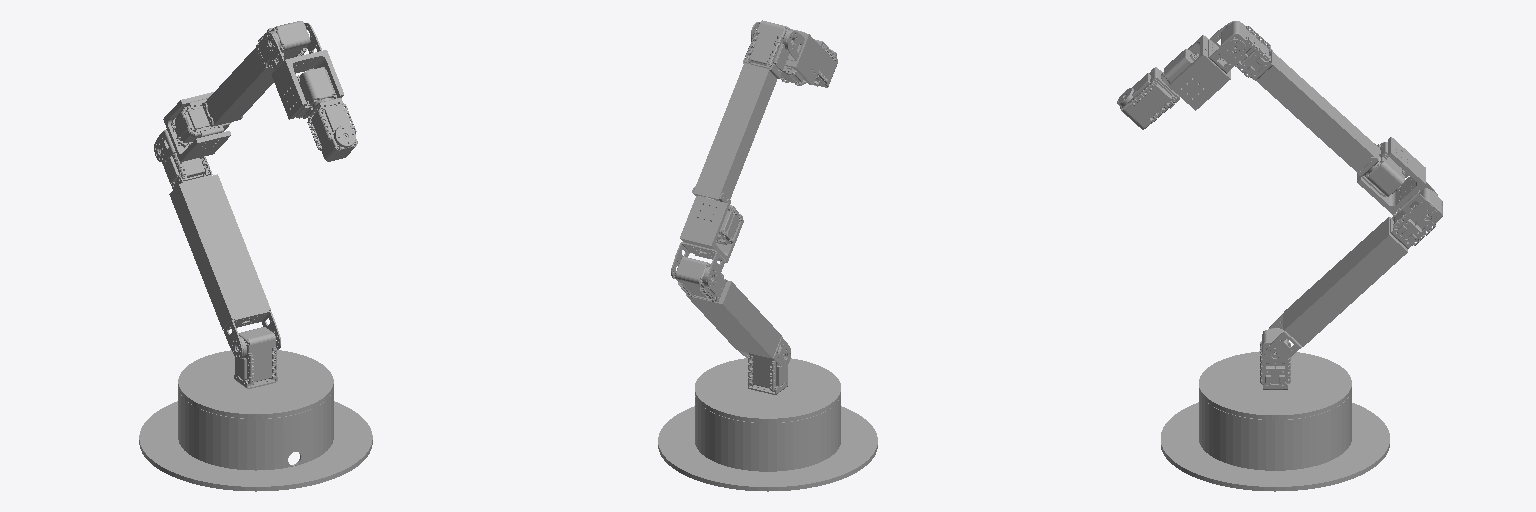
--- Render facts (derived) ---
3 views of the same robot in one strip: view 1: azimuth 30°, elevation 25°; view 2: azimuth 150°, elevation 25°; view 3: azimuth 270°, elevation 25° (orthographic).
Model mvp_arm_6dof with 28 links and 27 joints (6 continuous, 21 fixed), rooted at dummy, posed all joints at 0.
Links seen in each view (by area): view 1: base_link, shoulderArm__1, lid_1, axis4ARM__1, axis5-6_connector__1, AX12A_servo__6__1, AX12A_servo__1__1, axis3-4_connector__1, AX12A_servo__4__1, AX12A_servo__3__1, AX12A_servo__5__1, f2Bracket_1 (+2 smaller); view 2: base_link, lid_1, axis4ARM__1, shoulderArm__1, axis3-4_connector__1, AX12A_servo__4__1, AX12A_servo__2__1, AX12A_servo__1__1, axis5-6_connector__1, f2Bracket__1__1, AX12A_servo__6__1, AX12A_servo__3__1; view 3: base_link, lid_1, shoulderArm__1, axis4ARM__1, axis5-6_connector__1, AX12A_servo__6__1, axis3-4_connector__1, AX12A_servo__4__1, AX12A_servo__2__1, AX12A_servo__1__1, AX12A_servo__3__1, f2Bracket__2__1 (+3 smaller).
Boxes of the visible links, x1=… form: base_link: x1=139, y1=389, x2=372, y2=491; shoulderArm__1: x1=169, y1=174, x2=270, y2=329; lid_1: x1=178, y1=350, x2=333, y2=418; axis4ARM__1: x1=205, y1=48, x2=274, y2=125; axis5-6_connector__1: x1=271, y1=50, x2=343, y2=119; AX12A_servo__6__1: x1=307, y1=103, x2=357, y2=161; AX12A_servo__1__1: x1=235, y1=327, x2=276, y2=385; axis3-4_connector__1: x1=163, y1=92, x2=230, y2=161; AX12A_servo__4__1: x1=258, y1=21, x2=310, y2=68; AX12A_servo__3__1: x1=171, y1=106, x2=231, y2=147; AX12A_servo__5__1: x1=295, y1=67, x2=335, y2=118; f2Bracket_1: x1=223, y1=310, x2=280, y2=358; base_link: x1=658, y1=396, x2=877, y2=491; lid_1: x1=695, y1=358, x2=840, y2=422; axis4ARM__1: x1=694, y1=64, x2=776, y2=198; shoulderArm__1: x1=686, y1=280, x2=781, y2=358; axis3-4_connector__1: x1=680, y1=196, x2=743, y2=262; AX12A_servo__4__1: x1=745, y1=20, x2=793, y2=72; AX12A_servo__2__1: x1=675, y1=257, x2=723, y2=301; AX12A_servo__1__1: x1=748, y1=345, x2=787, y2=391; axis5-6_connector__1: x1=785, y1=31, x2=825, y2=84; f2Bracket__1__1: x1=671, y1=242, x2=725, y2=287; AX12A_servo__6__1: x1=813, y1=44, x2=837, y2=87; AX12A_servo__3__1: x1=702, y1=196, x2=742, y2=244; base_link: x1=1161, y1=391, x2=1389, y2=491; lid_1: x1=1199, y1=351, x2=1351, y2=419; shoulderArm__1: x1=1284, y1=217, x2=1407, y2=346; axis4ARM__1: x1=1256, y1=52, x2=1377, y2=172; axis5-6_connector__1: x1=1169, y1=35, x2=1230, y2=110; AX12A_servo__6__1: x1=1117, y1=73, x2=1176, y2=129; axis3-4_connector__1: x1=1357, y1=137, x2=1425, y2=214; AX12A_servo__4__1: x1=1221, y1=21, x2=1270, y2=77; AX12A_servo__2__1: x1=1393, y1=188, x2=1442, y2=245; AX12A_servo__1__1: x1=1260, y1=328, x2=1290, y2=385; AX12A_servo__3__1: x1=1364, y1=142, x2=1406, y2=196; f2Bracket__2__1: x1=1208, y1=21, x2=1245, y2=73.
Bounding box of the posed robot: 0.2325 × 0.3293 × 0.4719 m (x, y, z).
27 mesh visuals loaded from 27 distinct referenced files (27 binary STL).

The robot description file, URDF, robot "mvp_arm_6dof":
<?xml version="1.0" ?>
<!-- =================================================================================== -->
<!-- |    This document was autogenerated by xacro from mvp_arm_6dof.xacro             | -->
<!-- |    EDITING THIS FILE BY HAND IS NOT RECOMMENDED                                 | -->
<!-- =================================================================================== -->
<robot name="mvp_arm_6dof">
  <!--
	     ADDED DUMMY LINK AND DUMMMY JOINT
	     -->
  <material name="silver">
    <color rgba="0.700 0.700 0.700 1.000"/>
  </material>
  <transmission name="Rev17_tran">
    <type>transmission_interface/SimpleTransmission</type>
    <joint name="Rev17">
      <hardwareInterface>hardware_interface/EffortJointInterface</hardwareInterface>
    </joint>
    <actuator name="Rev17_actr">
      <hardwareInterface>hardware_interface/EffortJointInterface</hardwareInterface>
      <mechanicalReduction>1</mechanicalReduction>
    </actuator>
  </transmission>
  <transmission name="Rev20_tran">
    <type>transmission_interface/SimpleTransmission</type>
    <joint name="Rev20">
      <hardwareInterface>hardware_interface/EffortJointInterface</hardwareInterface>
    </joint>
    <actuator name="Rev20_actr">
      <hardwareInterface>hardware_interface/EffortJointInterface</hardwareInterface>
      <mechanicalReduction>1</mechanicalReduction>
    </actuator>
  </transmission>
  <transmission name="Rev26_tran">
    <type>transmission_interface/SimpleTransmission</type>
    <joint name="Rev26">
      <hardwareInterface>hardware_interface/EffortJointInterface</hardwareInterface>
    </joint>
    <actuator name="Rev26_actr">
      <hardwareInterface>hardware_interface/EffortJointInterface</hardwareInterface>
      <mechanicalReduction>1</mechanicalReduction>
    </actuator>
  </transmission>
  <transmission name="Rev36_tran">
    <type>transmission_interface/SimpleTransmission</type>
    <joint name="Rev36">
      <hardwareInterface>hardware_interface/EffortJointInterface</hardwareInterface>
    </joint>
    <actuator name="Rev36_actr">
      <hardwareInterface>hardware_interface/EffortJointInterface</hardwareInterface>
      <mechanicalReduction>1</mechanicalReduction>
    </actuator>
  </transmission>
  <transmission name="Rev40_tran">
    <type>transmission_interface/SimpleTransmission</type>
    <joint name="Rev40">
      <hardwareInterface>hardware_interface/EffortJointInterface</hardwareInterface>
    </joint>
    <actuator name="Rev40_actr">
      <hardwareInterface>hardware_interface/EffortJointInterface</hardwareInterface>
      <mechanicalReduction>1</mechanicalReduction>
    </actuator>
  </transmission>
  <transmission name="Rev45_tran">
    <type>transmission_interface/SimpleTransmission</type>
    <joint name="Rev45">
      <hardwareInterface>hardware_interface/EffortJointInterface</hardwareInterface>
    </joint>
    <actuator name="Rev45_actr">
      <hardwareInterface>hardware_interface/EffortJointInterface</hardwareInterface>
      <mechanicalReduction>1</mechanicalReduction>
    </actuator>
  </transmission>
  <gazebo>
    <plugin filename="libgazebo_ros_control.so" name="control"/>
  </gazebo>
  <gazebo reference="base_link">
    <material>Gazebo/Silver</material>
    <mu1>0.2</mu1>
    <mu2>0.2</mu2>
    <selfCollide>true</selfCollide>
    <gravity>true</gravity>
  </gazebo>
  <gazebo reference="f3Bracket_1">
    <material>Gazebo/Silver</material>
    <mu1>0.2</mu1>
    <mu2>0.2</mu2>
    <selfCollide>true</selfCollide>
  </gazebo>
  <gazebo reference="f3Bracket__1__1">
    <material>Gazebo/Silver</material>
    <mu1>0.2</mu1>
    <mu2>0.2</mu2>
    <selfCollide>true</selfCollide>
  </gazebo>
  <gazebo reference="AX12A_servo_1">
    <material>Gazebo/Silver</material>
    <mu1>0.2</mu1>
    <mu2>0.2</mu2>
    <selfCollide>true</selfCollide>
  </gazebo>
  <gazebo reference="lid_1">
    <material>Gazebo/Silver</material>
    <mu1>0.2</mu1>
    <mu2>0.2</mu2>
    <selfCollide>true</selfCollide>
  </gazebo>
  <gazebo reference="f3Bracket__2__1">
    <material>Gazebo/Silver</material>
    <mu1>0.2</mu1>
    <mu2>0.2</mu2>
    <selfCollide>true</selfCollide>
  </gazebo>
  <gazebo reference="AX12A_servo__1__1">
    <material>Gazebo/Silver</material>
    <mu1>0.2</mu1>
    <mu2>0.2</mu2>
    <selfCollide>true</selfCollide>
  </gazebo>
  <gazebo reference="f2Bracket_1">
    <material>Gazebo/Silver</material>
    <mu1>0.2</mu1>
    <mu2>0.2</mu2>
    <selfCollide>true</selfCollide>
  </gazebo>
  <gazebo reference="shoulderArm__1">
    <material>Gazebo/Silver</material>
    <mu1>0.2</mu1>
    <mu2>0.2</mu2>
    <selfCollide>true</selfCollide>
  </gazebo>
  <gazebo reference="f3Bracket__3__1">
    <material>Gazebo/Silver</material>
    <mu1>0.2</mu1>
    <mu2>0.2</mu2>
    <selfCollide>true</selfCollide>
  </gazebo>
  <gazebo reference="AX12A_servo__2__1">
    <material>Gazebo/Silver</material>
    <mu1>0.2</mu1>
    <mu2>0.2</mu2>
    <selfCollide>true</selfCollide>
  </gazebo>
  <gazebo reference="f2Bracket__1__1">
    <material>Gazebo/Silver</material>
    <mu1>0.2</mu1>
    <mu2>0.2</mu2>
    <selfCollide>true</selfCollide>
  </gazebo>
  <gazebo reference="axis3-4_connector__1">
    <material>Gazebo/Silver</material>
    <mu1>0.2</mu1>
    <mu2>0.2</mu2>
    <selfCollide>true</selfCollide>
  </gazebo>
  <gazebo reference="f3Bracket__4__1">
    <material>Gazebo/Silver</material>
    <mu1>0.2</mu1>
    <mu2>0.2</mu2>
    <selfCollide>true</selfCollide>
  </gazebo>
  <gazebo reference="f3Bracket__5__1">
    <material>Gazebo/Silver</material>
    <mu1>0.2</mu1>
    <mu2>0.2</mu2>
    <selfCollide>true</selfCollide>
  </gazebo>
  <gazebo reference="AX12A_servo__3__1">
    <material>Gazebo/Silver</material>
    <mu1>0.2</mu1>
    <mu2>0.2</mu2>
    <selfCollide>true</selfCollide>
  </gazebo>
  <gazebo reference="f3Bracket__6__1">
    <material>Gazebo/Silver</material>
    <mu1>0.2</mu1>
    <mu2>0.2</mu2>
    <selfCollide>true</selfCollide>
  </gazebo>
  <gazebo reference="axis4ARM__1">
    <material>Gazebo/Silver</material>
    <mu1>0.2</mu1>
    <mu2>0.2</mu2>
    <selfCollide>true</selfCollide>
  </gazebo>
  <gazebo reference="f3Bracket__7__1">
    <material>Gazebo/Silver</material>
    <mu1>0.2</mu1>
    <mu2>0.2</mu2>
    <selfCollide>true</selfCollide>
  </gazebo>
  <gazebo reference="AX12A_servo__4__1">
    <material>Gazebo/Silver</material>
    <mu1>0.2</mu1>
    <mu2>0.2</mu2>
    <selfCollide>true</selfCollide>
  </gazebo>
  <gazebo reference="f2Bracket__2__1">
    <material>Gazebo/Silver</material>
    <mu1>0.2</mu1>
    <mu2>0.2</mu2>
    <selfCollide>true</selfCollide>
  </gazebo>
  <gazebo reference="axis5-6_connector__1">
    <material>Gazebo/Silver</material>
    <mu1>0.2</mu1>
    <mu2>0.2</mu2>
    <selfCollide>true</selfCollide>
  </gazebo>
  <gazebo reference="f3Bracket__9__1">
    <material>Gazebo/Silver</material>
    <mu1>0.2</mu1>
    <mu2>0.2</mu2>
    <selfCollide>true</selfCollide>
  </gazebo>
  <gazebo reference="f3Bracket__8__1">
    <material>Gazebo/Silver</material>
    <mu1>0.2</mu1>
    <mu2>0.2</mu2>
    <selfCollide>true</selfCollide>
  </gazebo>
  <gazebo reference="AX12A_servo__5__1">
    <material>Gazebo/Silver</material>
    <mu1>0.2</mu1>
    <mu2>0.2</mu2>
    <selfCollide>true</selfCollide>
  </gazebo>
  <gazebo reference="f3Bracket__10__1">
    <material>Gazebo/Silver</material>
    <mu1>0.2</mu1>
    <mu2>0.2</mu2>
    <selfCollide>true</selfCollide>
  </gazebo>
  <gazebo reference="AX12A_servo__6__1">
    <material>Gazebo/Silver</material>
    <mu1>0.2</mu1>
    <mu2>0.2</mu2>
    <selfCollide>true</selfCollide>
  </gazebo>
  <!-- dummy link below -->
  <link name="dummy">
</link>
  <!-- dummy link above -->
  <link name="base_link">
    <inertial>
      <origin rpy="0 0 0" xyz="1.5273427923512274e-08 -0.0012615194115251204 0.015200351763726439"/>
      <mass value="1.6606259711147333"/>
      <inertia ixx="0.006748" ixy="0.0" ixz="-0.0" iyy="0.007016" iyz="4.2e-05" izz="0.012699"/>
    </inertial>
    <visual>
      <origin rpy="0 0 0" xyz="0 0 0"/>
      <geometry>
        <mesh filename="package://mvp_arm_6dof_description/meshes/base_link.stl" scale="0.001 0.001 0.001"/>
      </geometry>
      <material name="silver"/>
    </visual>
    <collision>
      <origin rpy="0 0 0" xyz="0 0 0"/>
      <geometry>
        <mesh filename="package://mvp_arm_6dof_description/meshes/base_link.stl" scale="0.001 0.001 0.001"/>
      </geometry>
    </collision>
  </link>
  <link name="f3Bracket_1">
    <inertial>
      <origin rpy="0 0 0" xyz="0.0018413874270871398 8.06819888676813e-15 2.0816681711721685e-17"/>
      <mass value="0.0016262220015435807"/>
      <inertia ixx="0.0" ixy="-0.0" ixz="-0.0" iyy="0.0" iyz="0.0" izz="0.0"/>
    </inertial>
    <visual>
      <origin rpy="0 0 0" xyz="0.019 0.01475 -0.041"/>
      <geometry>
        <mesh filename="package://mvp_arm_6dof_description/meshes/f3Bracket_1.stl" scale="0.001 0.001 0.001"/>
      </geometry>
      <material name="silver"/>
    </visual>
    <collision>
      <origin rpy="0 0 0" xyz="0.019 0.01475 -0.041"/>
      <geometry>
        <mesh filename="package://mvp_arm_6dof_description/meshes/f3Bracket_1.stl" scale="0.001 0.001 0.001"/>
      </geometry>
    </collision>
  </link>
  <link name="f3Bracket__1__1">
    <inertial>
      <origin rpy="0 0 0" xyz="-0.0018413874270886074 6.831341048396666e-15 -3.469446951953614e-17"/>
      <mass value="0.0016262220015435807"/>
      <inertia ixx="0.0" ixy="0.0" ixz="0.0" iyy="0.0" iyz="-0.0" izz="0.0"/>
    </inertial>
    <visual>
      <origin rpy="0 0 0" xyz="-0.019 0.01475 -0.041"/>
      <geometry>
        <mesh filename="package://mvp_arm_6dof_description/meshes/f3Bracket__1__1.stl" scale="0.001 0.001 0.001"/>
      </geometry>
      <material name="silver"/>
    </visual>
    <collision>
      <origin rpy="0 0 0" xyz="-0.019 0.01475 -0.041"/>
      <geometry>
        <mesh filename="package://mvp_arm_6dof_description/meshes/f3Bracket__1__1.stl" scale="0.001 0.001 0.001"/>
      </geometry>
    </collision>
  </link>
  <link name="AX12A_servo_1">
    <inertial>
      <origin rpy="0 0 0" xyz="0.01350070935914761 -0.005876867522658821 -0.01479497142329602"/>
      <mass value="0.3366787209762054"/>
      <inertia ixx="9.7e-05" ixy="-0.0" ixz="-0.0" iyy="5.4e-05" iyz="-1e-06" izz="8.2e-05"/>
    </inertial>
    <visual>
      <origin rpy="0 0 0" xyz="0.0135 0.00675 -0.057"/>
      <geometry>
        <mesh filename="package://mvp_arm_6dof_description/meshes/AX12A_servo_1.stl" scale="0.001 0.001 0.001"/>
      </geometry>
      <material name="silver"/>
    </visual>
    <collision>
      <origin rpy="0 0 0" xyz="0.0135 0.00675 -0.057"/>
      <geometry>
        <mesh filename="package://mvp_arm_6dof_description/meshes/AX12A_servo_1.stl" scale="0.001 0.001 0.001"/>
      </geometry>
    </collision>
  </link>
  <link name="lid_1">
    <inertial>
      <origin rpy="0 0 0" xyz="-1.0658141036401502e-15 2.4713564528155986e-15 0.0024995000000005013"/>
      <mass value="0.7384184020105663"/>
      <inertia ixx="0.001114" ixy="0.0" ixz="0.0" iyy="0.001114" iyz="-0.0" izz="0.002224"/>
    </inertial>
    <visual>
      <origin rpy="0 0 0" xyz="0.0 -0.0 -0.06175"/>
      <geometry>
        <mesh filename="package://mvp_arm_6dof_description/meshes/lid_1.stl" scale="0.001 0.001 0.001"/>
      </geometry>
      <material name="silver"/>
    </visual>
    <collision>
      <origin rpy="0 0 0" xyz="0.0 -0.0 -0.06175"/>
      <geometry>
        <mesh filename="package://mvp_arm_6dof_description/meshes/lid_1.stl" scale="0.001 0.001 0.001"/>
      </geometry>
    </collision>
  </link>
  <link name="f3Bracket__2__1">
    <inertial>
      <origin rpy="0 0 0" xyz="-4.2188474935755947e-16 8.477663016037695e-15 0.0018408874270881004"/>
      <mass value="0.0016262220015435807"/>
      <inertia ixx="0.0" ixy="0.0" ixz="0.0" iyy="0.0" iyz="-0.0" izz="0.0"/>
    </inertial>
    <visual>
      <origin rpy="0 0 0" xyz="0.0 -0.0 -0.06675"/>
      <geometry>
        <mesh filename="package://mvp_arm_6dof_description/meshes/f3Bracket__2__1.stl" scale="0.001 0.001 0.001"/>
      </geometry>
      <material name="silver"/>
    </visual>
    <collision>
      <origin rpy="0 0 0" xyz="0.0 -0.0 -0.06675"/>
      <geometry>
        <mesh filename="package://mvp_arm_6dof_description/meshes/f3Bracket__2__1.stl" scale="0.001 0.001 0.001"/>
      </geometry>
    </collision>
  </link>
  <link name="AX12A_servo__1__1">
    <inertial>
      <origin rpy="0 0 0" xyz="0.014794971423295564 0.007999290640854232 0.02337263247733931"/>
      <mass value="0.3366787209762054"/>
      <inertia ixx="8.2e-05" ixy="-0.0" ixz="1e-06" iyy="9.7e-05" iyz="0.0" izz="5.4e-05"/>
    </inertial>
    <visual>
      <origin rpy="0 0 0" xyz="0.016 0.008 -0.07225"/>
      <geometry>
        <mesh filename="package://mvp_arm_6dof_description/meshes/AX12A_servo__1__1.stl" scale="0.001 0.001 0.001"/>
      </geometry>
      <material name="silver"/>
    </visual>
    <collision>
      <origin rpy="0 0 0" xyz="0.016 0.008 -0.07225"/>
      <geometry>
        <mesh filename="package://mvp_arm_6dof_description/meshes/AX12A_servo__1__1.stl" scale="0.001 0.001 0.001"/>
      </geometry>
    </collision>
  </link>
  <link name="f2Bracket_1">
    <inertial>
      <origin rpy="0 0 0" xyz="0.02099999999999843 0.011463049476928342 0.011458018229762487"/>
      <mass value="0.0037556666472927302"/>
      <inertia ixx="1e-06" ixy="0.0" ixz="-0.0" iyy="2e-06" iyz="-0.0" izz="2e-06"/>
    </inertial>
    <visual>
      <origin rpy="0 0 0" xyz="0.02075 -0.0 -0.10825"/>
      <geometry>
        <mesh filename="package://mvp_arm_6dof_description/meshes/f2Bracket_1.stl" scale="0.001 0.001 0.001"/>
      </geometry>
      <material name="silver"/>
    </visual>
    <collision>
      <origin rpy="0 0 0" xyz="0.02075 -0.0 -0.10825"/>
      <geometry>
        <mesh filename="package://mvp_arm_6dof_description/meshes/f2Bracket_1.stl" scale="0.001 0.001 0.001"/>
      </geometry>
    </collision>
  </link>
  <link name="shoulderArm__1">
    <inertial>
      <origin rpy="0 0 0" xyz="1.7088652541630278e-15 0.05303289486060747 0.05303290188896653"/>
      <mass value="1.4306625"/>
      <inertia ixx="0.002769" ixy="-0.0" ixz="-0.0" iyy="0.001626" iyz="-0.001298" izz="0.001626"/>
    </inertial>
    <visual>
      <origin rpy="0 0 0" xyz="-0.00025 -0.018709 -0.126952"/>
      <geometry>
        <mesh filename="package://mvp_arm_6dof_description/meshes/shoulderArm__1.stl" scale="0.001 0.001 0.001"/>
      </geometry>
      <material name="silver"/>
    </visual>
    <collision>
      <origin rpy="0 0 0" xyz="-0.00025 -0.018709 -0.126952"/>
      <geometry>
        <mesh filename="package://mvp_arm_6dof_description/meshes/shoulderArm__1.stl" scale="0.001 0.001 0.001"/>
      </geometry>
    </collision>
  </link>
  <link name="f3Bracket__3__1">
    <inertial>
      <origin rpy="0 0 0" xyz="5.250465860695552e-15 0.0013019609860796533 0.0013019680144470969"/>
      <mass value="0.0016262220015435807"/>
      <inertia ixx="0.0" ixy="-0.0" ixz="0.0" iyy="0.0" iyz="0.0" izz="0.0"/>
    </inertial>
    <visual>
      <origin rpy="0 0 0" xyz="-0.00025 -0.124775 -0.233018"/>
      <geometry>
        <mesh filename="package://mvp_arm_6dof_description/meshes/f3Bracket__3__1.stl" scale="0.001 0.001 0.001"/>
      </geometry>
      <material name="silver"/>
    </visual>
    <collision>
      <origin rpy="0 0 0" xyz="-0.00025 -0.124775 -0.233018"/>
      <geometry>
        <mesh filename="package://mvp_arm_6dof_description/meshes/f3Bracket__3__1.stl" scale="0.001 0.001 0.001"/>
      </geometry>
    </collision>
  </link>
  <link name="AX12A_servo__2__1">
    <inertial>
      <origin rpy="0 0 0" xyz="0.01479397142330254 0.010869789625758658 0.02218479983944499"/>
      <mass value="0.3366787209762054"/>
      <inertia ixx="8.2e-05" ixy="1e-06" ixz="1e-06" iyy="7.6e-05" iyz="-2.2e-05" izz="7.6e-05"/>
    </inertial>
    <visual>
      <origin rpy="0 0 0" xyz="0.015749 -0.134321 -0.23125"/>
      <geometry>
        <mesh filename="package://mvp_arm_6dof_description/meshes/AX12A_servo__2__1.stl" scale="0.001 0.001 0.001"/>
      </geometry>
      <material name="silver"/>
    </visual>
    <collision>
      <origin rpy="0 0 0" xyz="0.015749 -0.134321 -0.23125"/>
      <geometry>
        <mesh filename="package://mvp_arm_6dof_description/meshes/AX12A_servo__2__1.stl" scale="0.001 0.001 0.001"/>
      </geometry>
    </collision>
  </link>
  <link name="f2Bracket__1__1">
    <inertial>
      <origin rpy="0 0 0" xyz="0.02099900000000768 -0.011458683360921401 0.011462891374124484"/>
      <mass value="0.0037556666472927302"/>
      <inertia ixx="1e-06" ixy="0.0" ixz="0.0" iyy="2e-06" iyz="0.0" izz="2e-06"/>
    </inertial>
    <visual>
      <origin rpy="0 0 0" xyz="0.020499 -0.15412 -0.262363"/>
      <geometry>
        <mesh filename="package://mvp_arm_6dof_description/meshes/f2Bracket__1__1.stl" scale="0.001 0.001 0.001"/>
      </geometry>
      <material name="silver"/>
    </visual>
    <collision>
      <origin rpy="0 0 0" xyz="0.020499 -0.15412 -0.262363"/>
      <geometry>
        <mesh filename="package://mvp_arm_6dof_description/meshes/f2Bracket__1__1.stl" scale="0.001 0.001 0.001"/>
      </geometry>
    </collision>
  </link>
  <link name="axis3-4_connector__1">
    <inertial>
      <origin rpy="0 0 0" xyz="7.741767021180422e-09 -0.013131073230303991 0.013131242967982293"/>
      <mass value="0.2107220147290529"/>
      <inertia ixx="0.000131" ixy="-0.0" ixz="0.0" iyy="9.2e-05" iyz="-1.3e-05" izz="9.2e-05"/>
    </inertial>
    <visual>
      <origin rpy="0 0 0" xyz="-0.0005 -0.135417 -0.281072"/>
      <geometry>
        <mesh filename="package://mvp_arm_6dof_description/meshes/axis3-4_connector__1.stl" scale="0.001 0.001 0.001"/>
      </geometry>
      <material name="silver"/>
    </visual>
    <collision>
      <origin rpy="0 0 0" xyz="-0.0005 -0.135417 -0.281072"/>
      <geometry>
        <mesh filename="package://mvp_arm_6dof_description/meshes/axis3-4_connector__1.stl" scale="0.001 0.001 0.001"/>
      </geometry>
    </collision>
  </link>
  <link name="f3Bracket__4__1">
    <inertial>
      <origin rpy="0 0 0" xyz="8.331551594464859e-15 0.006959286311871121 -0.00435505918631085"/>
      <mass value="0.0016262220015435807"/>
      <inertia ixx="0.0" ixy="0.0" ixz="-0.0" iyy="0.0" iyz="0.0" izz="0.0"/>
    </inertial>
    <visual>
      <origin rpy="0 0 0" xyz="-0.0005 -0.09193 -0.297689"/>
      <geometry>
        <mesh filename="package://mvp_arm_6dof_description/meshes/f3Bracket__4__1.stl" scale="0.001 0.001 0.001"/>
      </geometry>
      <material name="silver"/>
    </visual>
    <collision>
      <origin rpy="0 0 0" xyz="-0.0005 -0.09193 -0.297689"/>
      <geometry>
        <mesh filename="package://mvp_arm_6dof_description/meshes/f3Bracket__4__1.stl" scale="0.001 0.001 0.001"/>
      </geometry>
    </collision>
  </link>
  <link name="f3Bracket__5__1">
    <inertial>
      <origin rpy="0 0 0" xyz="1.960920575222458e-14 0.004355228923988971 -0.006959116574192292"/>
      <mass value="0.0016262220015435807"/>
      <inertia ixx="0.0" ixy="0.0" ixz="-0.0" iyy="0.0" iyz="0.0" izz="0.0"/>
    </inertial>
    <visual>
      <origin rpy="0 0 0" xyz="-0.0005 -0.1188 -0.324559"/>
      <geometry>
        <mesh filename="package://mvp_arm_6dof_description/meshes/f3Bracket__5__1.stl" scale="0.001 0.001 0.001"/>
      </geometry>
      <material name="silver"/>
    </visual>
    <collision>
      <origin rpy="0 0 0" xyz="-0.0005 -0.1188 -0.324559"/>
      <geometry>
        <mesh filename="package://mvp_arm_6dof_description/meshes/f3Bracket__5__1.stl" scale="0.001 0.001 0.001"/>
      </geometry>
    </collision>
  </link>
  <link name="AX12A_servo__3__1">
    <inertial>
      <origin rpy="0 0 0" xyz="-0.005876867522646675 0.0009146721471553626 -0.020007505594804464"/>
      <mass value="0.3366787209762054"/>
      <inertia ixx="5.4e-05" ixy="1e-06" ixz="-1e-06" iyy="9e-05" iyz="8e-06" izz="9e-05"/>
    </inertial>
    <visual>
      <origin rpy="0 0 0" xyz="-0.0085 -0.109255 -0.326326"/>
      <geometry>
        <mesh filename="package://mvp_arm_6dof_description/meshes/AX12A_servo__3__1.stl" scale="0.001 0.001 0.001"/>
      </geometry>
      <material name="silver"/>
    </visual>
    <collision>
      <origin rpy="0 0 0" xyz="-0.0085 -0.109255 -0.326326"/>
      <geometry>
        <mesh filename="package://mvp_arm_6dof_description/meshes/AX12A_servo__3__1.stl" scale="0.001 0.001 0.001"/>
      </geometry>
    </collision>
  </link>
  <link name="f3Bracket__6__1">
    <inertial>
      <origin rpy="0 0 0" xyz="1.7957857423311907e-14 -0.001301912074779893 0.0013020818124673261"/>
      <mass value="0.0016262220015435807"/>
      <inertia ixx="0.0" ixy="-0.0" ixz="0.0" iyy="0.0" iyz="-0.0" izz="0.0"/>
    </inertial>
    <visual>
      <origin rpy="0 0 0" xyz="-0.01525 -0.09635 -0.320139"/>
      <geometry>
        <mesh filename="package://mvp_arm_6dof_description/meshes/f3Bracket__6__1.stl" scale="0.001 0.001 0.001"/>
      </geometry>
      <material name="silver"/>
    </visual>
    <collision>
      <origin rpy="0 0 0" xyz="-0.01525 -0.09635 -0.320139"/>
      <geometry>
        <mesh filename="package://mvp_arm_6dof_description/meshes/f3Bracket__6__1.stl" scale="0.001 0.001 0.001"/>
      </geometry>
    </collision>
  </link>
  <link name="axis4ARM__1">
    <inertial>
      <origin rpy="0 0 0" xyz="2.929601006229632e-14 -0.053032748695814015 0.05303291843349328"/>
      <mass value="0.9125625000000004"/>
      <inertia ixx="0.001759" ixy="0.0" ixz="-0.0" iyy="0.000952" iyz="0.000832" izz="0.000952"/>
    </inertial>
    <visual>
      <origin rpy="0 0 0" xyz="-0.01525 -0.095227 -0.321262"/>
      <geometry>
        <mesh filename="package://mvp_arm_6dof_description/meshes/axis4ARM__1.stl" scale="0.001 0.001 0.001"/>
      </geometry>
      <material name="silver"/>
    </visual>
    <collision>
      <origin rpy="0 0 0" xyz="-0.01525 -0.095227 -0.321262"/>
      <geometry>
        <mesh filename="package://mvp_arm_6dof_description/meshes/axis4ARM__1.stl" scale="0.001 0.001 0.001"/>
      </geometry>
    </collision>
  </link>
  <link name="f3Bracket__7__1">
    <inertial>
      <origin rpy="0 0 0" xyz="4.110253803979447e-14 -0.0013018148212854495 0.001301984558973679"/>
      <mass value="0.0016262220015435807"/>
      <inertia ixx="0.0" ixy="-0.0" ixz="0.0" iyy="0.0" iyz="-0.0" izz="0.0"/>
    </inertial>
    <visual>
      <origin rpy="0 0 0" xyz="-0.01525 0.010839 -0.427328"/>
      <geometry>
        <mesh filename="package://mvp_arm_6dof_description/meshes/f3Bracket__7__1.stl" scale="0.001 0.001 0.001"/>
      </geometry>
      <material name="silver"/>
    </visual>
    <collision>
      <origin rpy="0 0 0" xyz="-0.01525 0.010839 -0.427328"/>
      <geometry>
        <mesh filename="package://mvp_arm_6dof_description/meshes/f3Bracket__7__1.stl" scale="0.001 0.001 0.001"/>
      </geometry>
    </collision>
  </link>
  <link name="AX12A_servo__4__1">
    <inertial>
      <origin rpy="0 0 0" xyz="0.014793971423341353 -0.010870646646293183 0.022183813198644264"/>
      <mass value="0.3366787209762054"/>
      <inertia ixx="8.2e-05" ixy="-1e-06" ixz="1e-06" iyy="7.6e-05" iyz="2.2e-05" izz="7.6e-05"/>
    </inertial>
    <visual>
      <origin rpy="0 0 0" xyz="0.000749 0.020385 -0.42556"/>
      <geometry>
        <mesh filename="package://mvp_arm_6dof_description/meshes/AX12A_servo__4__1.stl" scale="0.001 0.001 0.001"/>
      </geometry>
      <material name="silver"/>
    </visual>
    <collision>
      <origin rpy="0 0 0" xyz="0.000749 0.020385 -0.42556"/>
      <geometry>
        <mesh filename="package://mvp_arm_6dof_description/meshes/AX12A_servo__4__1.stl" scale="0.001 0.001 0.001"/>
      </geometry>
    </collision>
  </link>
  <link name="f2Bracket__2__1">
    <inertial>
      <origin rpy="0 0 0" xyz="0.020999000000046463 -0.011462738180973452 -0.011458659788035952"/>
      <mass value="0.0037556666472927302"/>
      <inertia ixx="1e-06" ixy="-0.0" ixz="0.0" iyy="2e-06" iyz="-0.0" izz="2e-06"/>
    </inertial>
    <visual>
      <origin rpy="0 0 0" xyz="0.005499 0.040184 -0.456673"/>
      <geometry>
        <mesh filename="package://mvp_arm_6dof_description/meshes/f2Bracket__2__1.stl" scale="0.001 0.001 0.001"/>
      </geometry>
      <material name="silver"/>
    </visual>
    <collision>
      <origin rpy="0 0 0" xyz="0.005499 0.040184 -0.456673"/>
      <geometry>
        <mesh filename="package://mvp_arm_6dof_description/meshes/f2Bracket__2__1.stl" scale="0.001 0.001 0.001"/>
      </geometry>
    </collision>
  </link>
  <link name="axis5-6_connector__1">
    <inertial>
      <origin rpy="0 0 0" xyz="-2.2518098496959738e-13 -0.013131095249087704 -0.01313104418317057"/>
      <mass value="0.2107220147290529"/>
      <inertia ixx="8e-05" ixy="-0.0" ixz="0.0" iyy="0.000118" iyz="-1.3e-05" izz="0.000118"/>
    </inertial>
    <visual>
      <origin rpy="0 0 0" xyz="-0.0155 0.058893 -0.43797"/>
      <geometry>
        <mesh filename="package://mvp_arm_6dof_description/meshes/axis5-6_connector__1.stl" scale="0.001 0.001 0.001"/>
      </geometry>
      <material name="silver"/>
    </visual>
    <collision>
      <origin rpy="0 0 0" xyz="-0.0155 0.058893 -0.43797"/>
      <geometry>
        <mesh filename="package://mvp_arm_6dof_description/meshes/axis5-6_connector__1.stl" scale="0.001 0.001 0.001"/>
      </geometry>
    </collision>
  </link>
  <link name="f3Bracket__9__1">
    <inertial>
      <origin rpy="0 0 0" xyz="0.001841387427043583 0.005657241073397323 0.005657281190819818"/>
      <mass value="0.0016262220015435807"/>
      <inertia ixx="0.0" ixy="-0.0" ixz="-0.0" iyy="0.0" iyz="-0.0" izz="0.0"/>
    </inertial>
    <visual>
      <origin rpy="0 0 0" xyz="0.0035 0.088945 -0.407918"/>
      <geometry>
        <mesh filename="package://mvp_arm_6dof_description/meshes/f3Bracket__9__1.stl" scale="0.001 0.001 0.001"/>
      </geometry>
      <material name="silver"/>
    </visual>
    <collision>
      <origin rpy="0 0 0" xyz="0.0035 0.088945 -0.407918"/>
      <geometry>
        <mesh filename="package://mvp_arm_6dof_description/meshes/f3Bracket__9__1.stl" scale="0.001 0.001 0.001"/>
      </geometry>
    </collision>
  </link>
  <link name="f3Bracket__8__1">
    <inertial>
      <origin rpy="0 0 0" xyz="-0.0018413874273180211 0.0056572410733904815 0.005657281190812213"/>
      <mass value="0.0016262220015435807"/>
      <inertia ixx="0.0" ixy="-0.0" ixz="-0.0" iyy="0.0" iyz="-0.0" izz="0.0"/>
    </inertial>
    <visual>
      <origin rpy="0 0 0" xyz="-0.0345 0.088945 -0.407918"/>
      <geometry>
        <mesh filename="package://mvp_arm_6dof_description/meshes/f3Bracket__8__1.stl" scale="0.001 0.001 0.001"/>
      </geometry>
      <material name="silver"/>
    </visual>
    <collision>
      <origin rpy="0 0 0" xyz="-0.0345 0.088945 -0.407918"/>
      <geometry>
        <mesh filename="package://mvp_arm_6dof_description/meshes/f3Bracket__8__1.stl" scale="0.001 0.001 0.001"/>
      </geometry>
    </collision>
  </link>
  <link name="AX12A_servo__5__1">
    <inertial>
      <origin rpy="0 0 0" xyz="-0.013499290641083328 0.014616875823199357 0.006305478684788701"/>
      <mass value="0.3366787209762054"/>
      <inertia ixx="9.7e-05" ixy="0.0" ixz="0.0" iyy="6.6e-05" iyz="1.4e-05" izz="6.9e-05"/>
    </inertial>
    <visual>
      <origin rpy="0 0 0" xyz="-0.029 0.100258 -0.407919"/>
      <geometry>
        <mesh filename="package://mvp_arm_6dof_description/meshes/AX12A_servo__5__1.stl" scale="0.001 0.001 0.001"/>
      </geometry>
      <material name="silver"/>
    </visual>
    <collision>
      <origin rpy="0 0 0" xyz="-0.029 0.100258 -0.407919"/>
      <geometry>
        <mesh filename="package://mvp_arm_6dof_description/meshes/AX12A_servo__5__1.stl" scale="0.001 0.001 0.001"/>
      </geometry>
    </collision>
  </link>
  <link name="f3Bracket__10__1">
    <inertial>
      <origin rpy="0 0 0" xyz="-2.483881156312151e-13 -0.001301753641823486 -0.0013020634793980412"/>
      <mass value="0.0016262220015435807"/>
      <inertia ixx="0.0" ixy="-0.0" ixz="0.0" iyy="0.0" iyz="0.0" izz="0.0"/>
    </inertial>
    <visual>
      <origin rpy="0 0 0" xyz="-0.0155 0.10839 -0.409333"/>
      <geometry>
        <mesh filename="package://mvp_arm_6dof_description/meshes/f3Bracket__10__1.stl" scale="0.001 0.001 0.001"/>
      </geometry>
      <material name="silver"/>
    </visual>
    <collision>
      <origin rpy="0 0 0" xyz="-0.0155 0.10839 -0.409333"/>
      <geometry>
        <mesh filename="package://mvp_arm_6dof_description/meshes/f3Bracket__10__1.stl" scale="0.001 0.001 0.001"/>
      </geometry>
    </collision>
  </link>
  <link name="AX12A_servo__6__1">
    <inertial>
      <origin rpy="0 0 0" xyz="0.007999290640599755 -0.02865305003000715 -0.004402427555891486"/>
      <mass value="0.3366787209762054"/>
      <inertia ixx="9.7e-05" ixy="-0.0" ixz="0.0" iyy="6.6e-05" iyz="-1.4e-05" izz="6.9e-05"/>
    </inertial>
    <visual>
      <origin rpy="0 0 0" xyz="-0.0075 0.100965 -0.394131"/>
      <geometry>
        <mesh filename="package://mvp_arm_6dof_description/meshes/AX12A_servo__6__1.stl" scale="0.001 0.001 0.001"/>
      </geometry>
      <material name="silver"/>
    </visual>
    <collision>
      <origin rpy="0 0 0" xyz="-0.0075 0.100965 -0.394131"/>
      <geometry>
        <mesh filename="package://mvp_arm_6dof_description/meshes/AX12A_servo__6__1.stl" scale="0.001 0.001 0.001"/>
      </geometry>
    </collision>
  </link>
  <!-- dummy joint below -->
  <joint name="dummy_joint" type="fixed">
    <parent link="dummy"/>
    <child link="base_link"/>
  </joint>
  <!-- dummy joint above -->
  <joint name="Rigid14" type="fixed">
    <origin rpy="0 0 0" xyz="-0.019 -0.01475 0.041"/>
    <parent link="base_link"/>
    <child link="f3Bracket_1"/>
  </joint>
  <joint name="Rigid15" type="fixed">
    <origin rpy="0 0 0" xyz="0.019 -0.01475 0.041"/>
    <parent link="base_link"/>
    <child link="f3Bracket__1__1"/>
  </joint>
  <joint name="Rigid16" type="fixed">
    <origin rpy="0 0 0" xyz="0.0055 0.008 0.016"/>
    <parent link="f3Bracket_1"/>
    <child link="AX12A_servo_1"/>
  </joint>
  <joint name="Rev17" type="continuous">
    <origin rpy="0 0 0" xyz="0.0135 0.00675 0.00475"/>
    <parent link="AX12A_servo_1"/>
    <child link="lid_1"/>
    <axis xyz="0.0 0.0 -1.0"/>
  </joint>
  <joint name="Rigid18" type="fixed">
    <origin rpy="0 0 0" xyz="0.0 0.0 0.005"/>
    <parent link="lid_1"/>
    <child link="f3Bracket__2__1"/>
  </joint>
  <joint name="Rigid19" type="fixed">
    <origin rpy="0 0 0" xyz="-0.016 -0.008 0.0055"/>
    <parent link="f3Bracket__2__1"/>
    <child link="AX12A_servo__1__1"/>
  </joint>
  <joint name="Rev20" type="continuous">
    <origin rpy="0 0 0" xyz="-0.00475 0.008 0.036"/>
    <parent link="AX12A_servo__1__1"/>
    <child link="f2Bracket_1"/>
    <axis xyz="1.0 -0.0 0.0"/>
  </joint>
  <joint name="Rigid23" type="fixed">
    <origin rpy="0 0 0" xyz="0.021 0.018709 0.018702"/>
    <parent link="f2Bracket_1"/>
    <child link="shoulderArm__1"/>
  </joint>
  <joint name="Rigid24" type="fixed">
    <origin rpy="0 0 0" xyz="0.0 0.106066 0.106066"/>
    <parent link="shoulderArm__1"/>
    <child link="f3Bracket__3__1"/>
  </joint>
  <joint name="Rigid25" type="fixed">
    <origin rpy="0 0 0" xyz="-0.015999 0.009546 -0.001768"/>
    <parent link="f3Bracket__3__1"/>
    <child link="AX12A_servo__2__1"/>
  </joint>
  <joint name="Rev26" type="continuous">
    <origin rpy="0 0 0" xyz="-0.00475 0.019799 0.031113"/>
    <parent link="AX12A_servo__2__1"/>
    <child link="f2Bracket__1__1"/>
    <axis xyz="1.0 0.0 -0.0"/>
  </joint>
  <joint name="Rigid32" type="fixed">
    <origin rpy="0 0 0" xyz="0.020999 -0.018703 0.018709"/>
    <parent link="f2Bracket__1__1"/>
    <child link="axis3-4_connector__1"/>
  </joint>
  <joint name="Rigid33" type="fixed">
    <origin rpy="0 0 0" xyz="0.0 -0.043487 0.016617"/>
    <parent link="axis3-4_connector__1"/>
    <child link="f3Bracket__4__1"/>
  </joint>
  <joint name="Rigid34" type="fixed">
    <origin rpy="0 0 0" xyz="0.0 -0.016617 0.043487"/>
    <parent link="axis3-4_connector__1"/>
    <child link="f3Bracket__5__1"/>
  </joint>
  <joint name="Rigid35" type="fixed">
    <origin rpy="0 0 0" xyz="0.008 -0.009545 0.001767"/>
    <parent link="f3Bracket__5__1"/>
    <child link="AX12A_servo__3__1"/>
  </joint>
  <joint name="Rev36" type="continuous">
    <origin rpy="0 0 0" xyz="0.00675 -0.012905 -0.006187"/>
    <parent link="AX12A_servo__3__1"/>
    <child link="f3Bracket__6__1"/>
    <axis xyz="-0.0 0.707107 -0.707107"/>
  </joint>
  <joint name="Rigid37" type="fixed">
    <origin rpy="0 0 0" xyz="0.0 -0.001123 0.001123"/>
    <parent link="f3Bracket__6__1"/>
    <child link="axis4ARM__1"/>
  </joint>
  <joint name="Rigid38" type="fixed">
    <origin rpy="0 0 0" xyz="0.0 -0.106066 0.106066"/>
    <parent link="axis4ARM__1"/>
    <child link="f3Bracket__7__1"/>
  </joint>
  <joint name="Rigid39" type="fixed">
    <origin rpy="0 0 0" xyz="-0.015999 -0.009546 -0.001768"/>
    <parent link="f3Bracket__7__1"/>
    <child link="AX12A_servo__4__1"/>
  </joint>
  <joint name="Rev40" type="continuous">
    <origin rpy="0 0 0" xyz="-0.00475 -0.019799 0.031113"/>
    <parent link="AX12A_servo__4__1"/>
    <child link="f2Bracket__2__1"/>
    <axis xyz="1.0 0.0 -0.0"/>
  </joint>
  <joint name="Rigid41" type="fixed">
    <origin rpy="0 0 0" xyz="0.020999 -0.018709 -0.018703"/>
    <parent link="f2Bracket__2__1"/>
    <child link="axis5-6_connector__1"/>
  </joint>
  <joint name="Rigid42" type="fixed">
    <origin rpy="0 0 0" xyz="-0.019 -0.030052 -0.030052"/>
    <parent link="axis5-6_connector__1"/>
    <child link="f3Bracket__9__1"/>
  </joint>
  <joint name="Rigid43" type="fixed">
    <origin rpy="0 0 0" xyz="0.019 -0.030052 -0.030052"/>
    <parent link="axis5-6_connector__1"/>
    <child link="f3Bracket__8__1"/>
  </joint>
  <joint name="Rigid44" type="fixed">
    <origin rpy="0 0 0" xyz="-0.0055 -0.011313 1e-06"/>
    <parent link="f3Bracket__8__1"/>
    <child link="AX12A_servo__5__1"/>
  </joint>
  <joint name="Rev45" type="continuous">
    <origin rpy="0 0 0" xyz="-0.0135 -0.008132 0.001414"/>
    <parent link="AX12A_servo__5__1"/>
    <child link="f3Bracket__10__1"/>
    <axis xyz="-0.0 -0.707107 -0.707107"/>
  </joint>
  <joint name="Rigid46" type="fixed">
    <origin rpy="0 0 0" xyz="-0.008 0.007425 -0.015202"/>
    <parent link="f3Bracket__10__1"/>
    <child link="AX12A_servo__6__1"/>
  </joint>
</robot>
